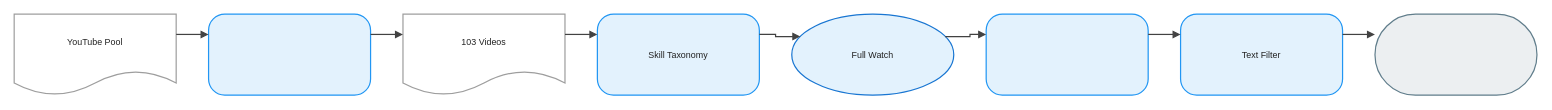
Some shapes in this 1552 by 110 pixel diagram are drawn without their labels. The shapes that lost their labels are listed below. From the top down, each one's box as (x1, y1, x2, y2) in pixels, then its label:
(208, 13, 371, 95): Quality Filter
(985, 13, 1148, 95): QA Authoring
(1374, 13, 1537, 95): 1549 QAs
